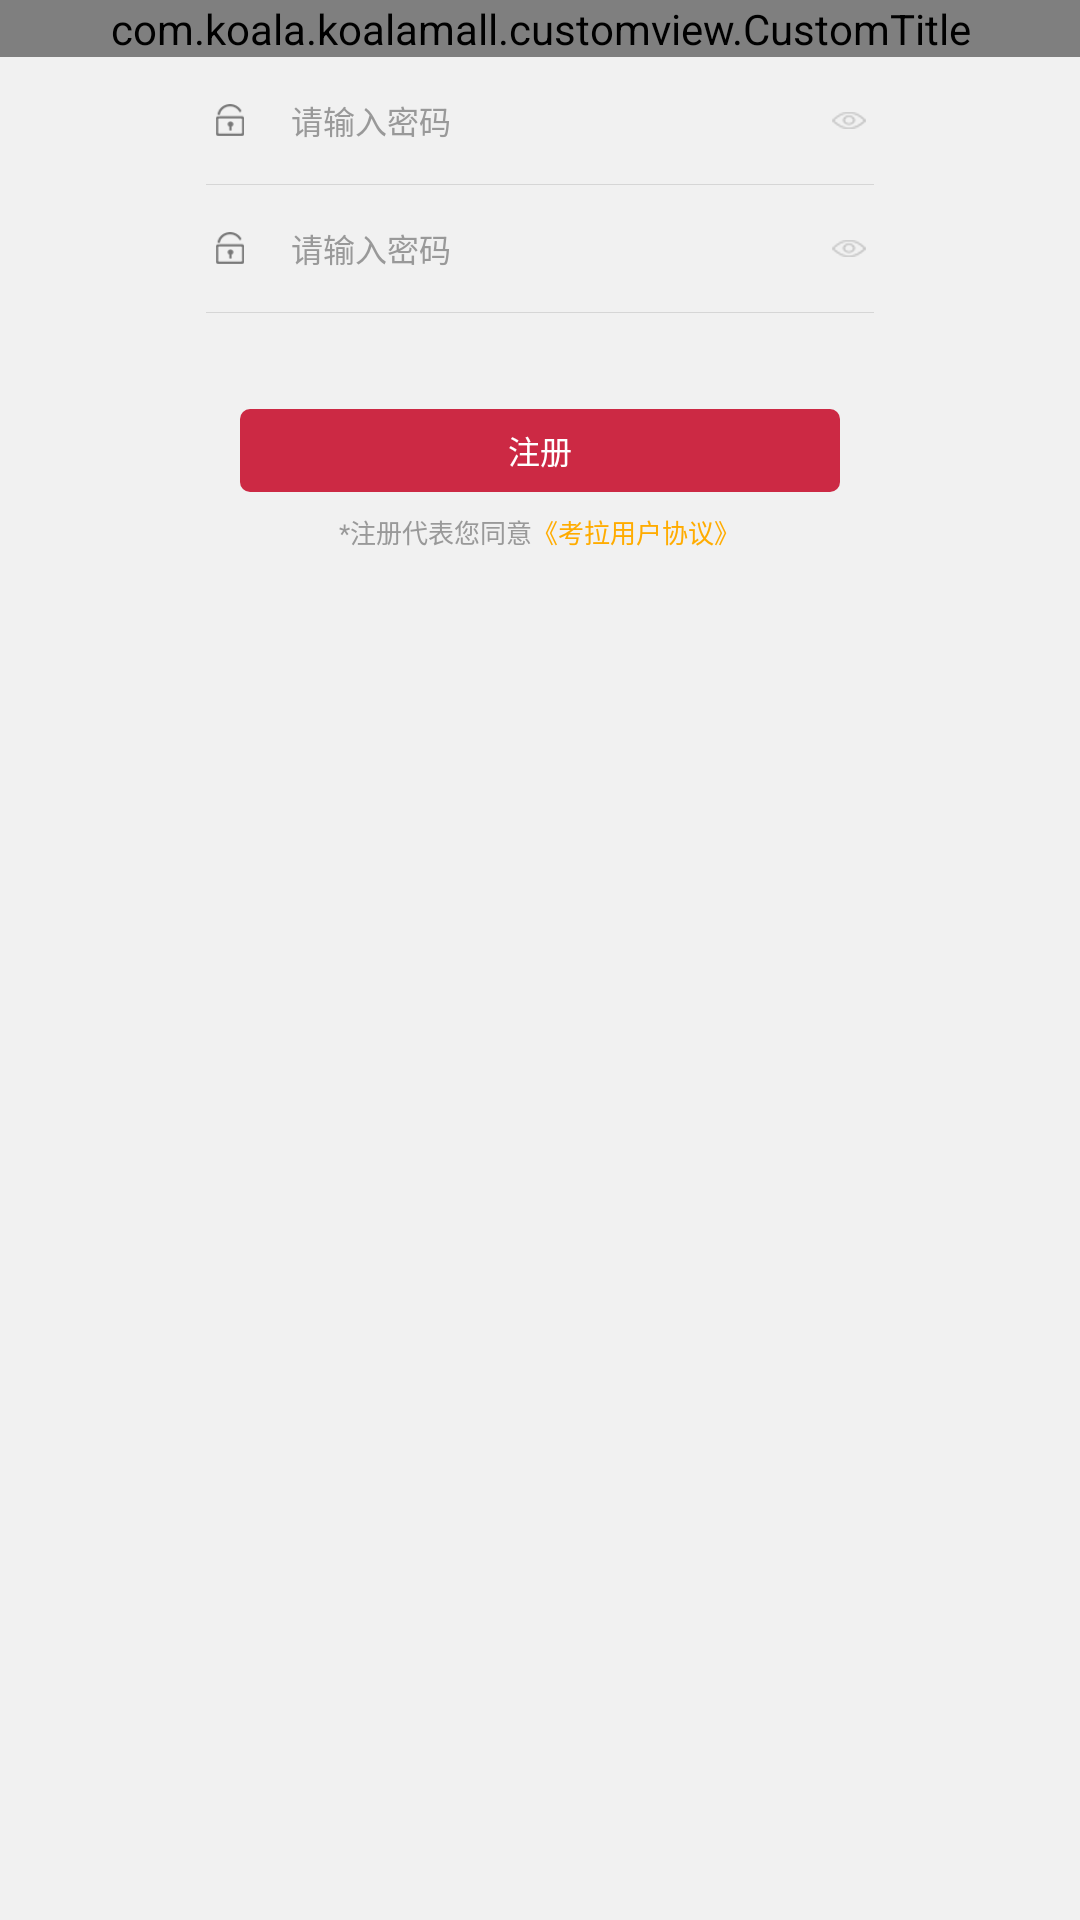

Screen size 1080*1920. Icon name, then its center in pixels as [x,y]:
login look: [849,120], [849,248]
login pwd: [230,120], [230,248]
